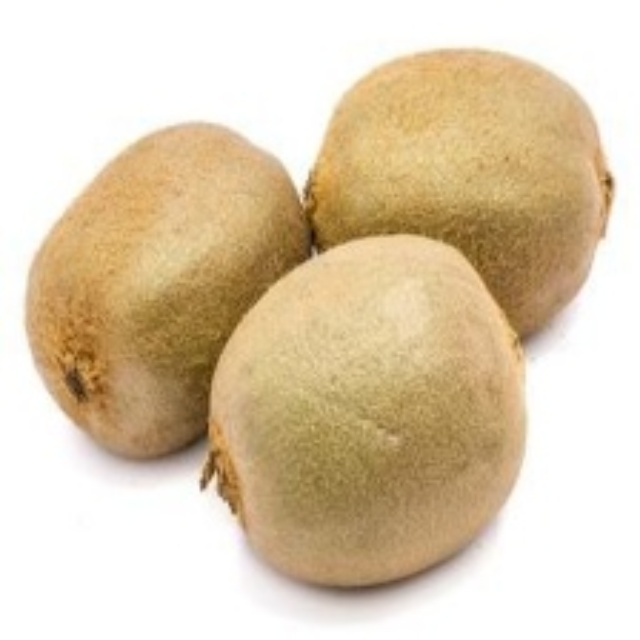kiwi: (29, 105, 330, 461), (216, 238, 511, 591), (309, 43, 601, 336)
